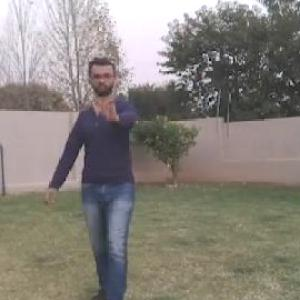takeoff-hand: (95, 85, 124, 124)
